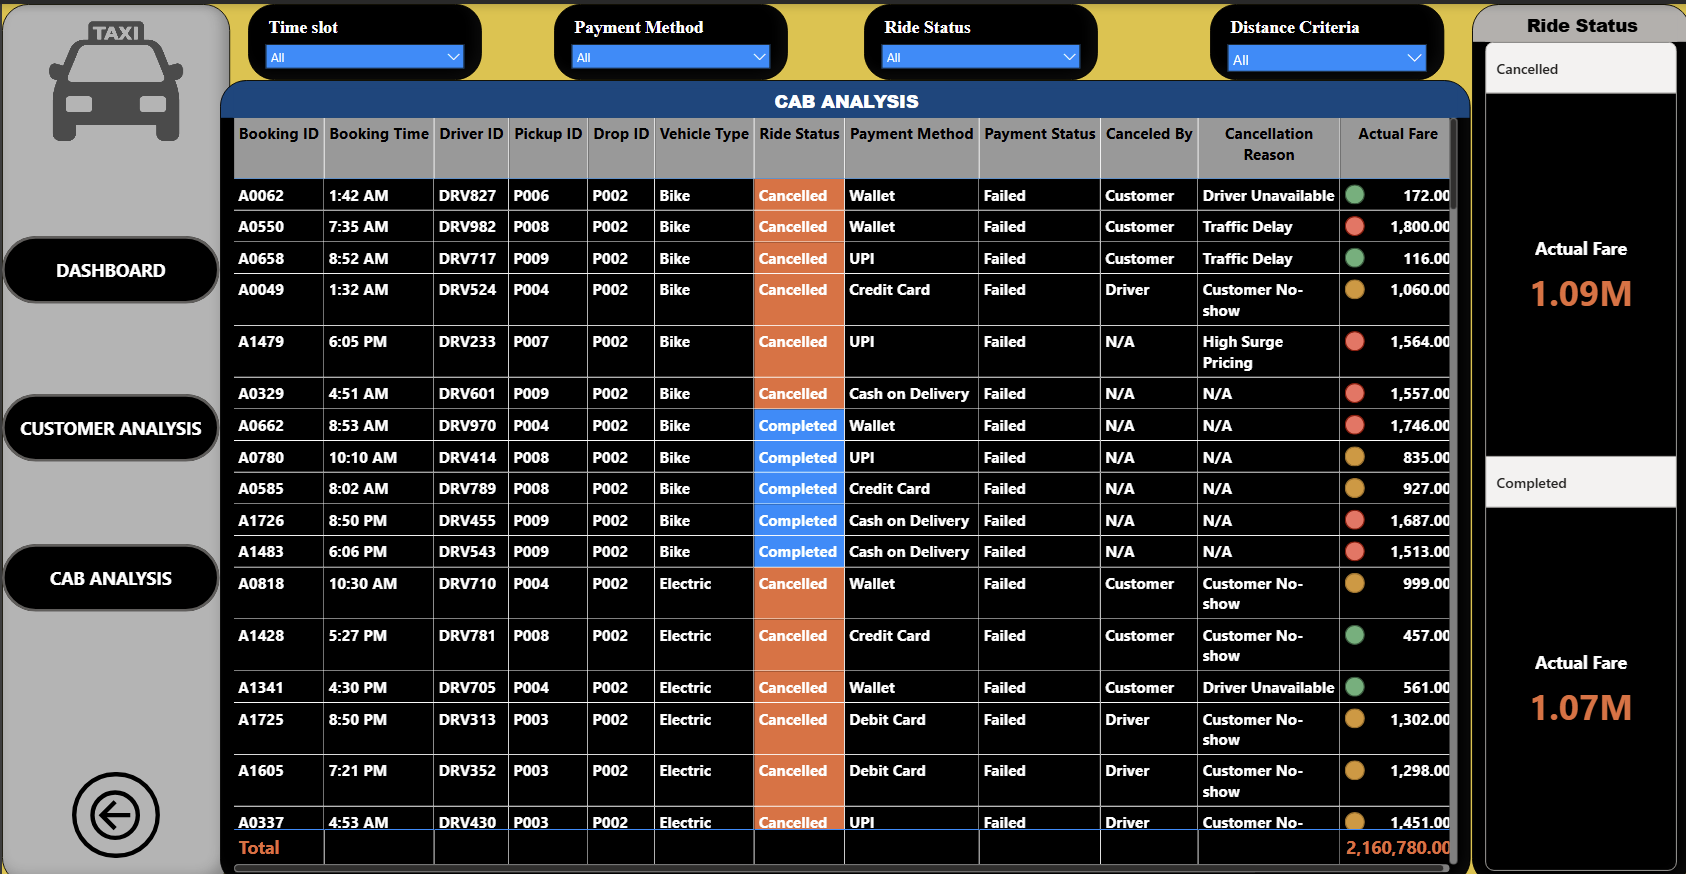

Layout of this report page (visuals, bound fields, positions):
{"tool":"powerbi","page":{"name":"CAB ANALYSIS","canvas":[1920,1000],"ordinal":3},"visuals":[{"type":"textbox","box":[0,0,259.3,1000.9],"z":0},{"type":"image","box":[0,11.4,259.3,152.4],"z":1000},{"type":"actionButton","box":[0,264.3,247.5,76.9],"z":2000},{"type":"actionButton","box":[0,444.6,247.5,76.9],"z":3000},{"type":"actionButton","box":[0,615.2,247.5,76.9],"z":4000},{"type":"tableEx","title":"CAB ANALYSIS","fields":{"Values":["FACT TABLE.Booking ID","FACT TABLE.Booking Time","FACT TABLE.Driver ID","FACT TABLE.Pickup ID","FACT TABLE.Drop ID","VEHICLE DIMENSION.Vehicle Type","RIDE STATUS DIMENSION.Ride Status","PAYMENT DIMENSION.Payment Method","PAYMENT_STATUS DIMENSION.Payment Status","CANCELLATION BY DIMENSION.Canceled By","CANCELLATION DIMENSION.Cancellation Reason","Sum(FACT TABLE.Actual Fare)"]},"box":[248.7,86.1,1422.7,915.8],"z":5000},{"type":"slicer","fields":{"Values":["FACT TABLE.Time slot"]},"box":[279.8,0,266.2,86.4],"z":6000},{"type":"slicer","fields":{"Values":["PAYMENT DIMENSION.Payment Method"]},"box":[627.9,0,266.2,86.4],"z":7000},{"type":"slicer","fields":{"Values":["RIDE STATUS DIMENSION.Ride Status"]},"box":[980.5,0,266.2,86.4],"z":8000},{"type":"cardVisual","title":"Ride Status","fields":{"Data":["Sum(FACT TABLE.Actual Fare)"],"Rows":["RIDE STATUS DIMENSION.Ride Status"]},"box":[1671.3,0,248.7,1001.8],"z":9000},{"type":"actionButton","box":[79.6,873.6,100.1,97.8],"z":10000},{"type":"slicer","fields":{"Values":["FACT TABLE.Distance Criteria"]},"box":[1374.5,0,266.7,86.5],"z":11000}]}

Visuals, with their boxes in screenshot pixels (x1, y1, x2, y2), scaled from the page's 1920x1000 canvas onto the 1686x874 screenshot:
textbox: BBox(0, 0, 228, 873)
image: BBox(0, 10, 228, 143)
actionButton: BBox(0, 231, 217, 298)
actionButton: BBox(0, 389, 217, 456)
actionButton: BBox(0, 538, 217, 605)
"CAB ANALYSIS" tableEx: BBox(218, 75, 1468, 873)
slicer - FACT TABLE.Time slot: BBox(246, 0, 479, 76)
slicer - PAYMENT DIMENSION.Payment Method: BBox(551, 0, 785, 76)
slicer - RIDE STATUS DIMENSION.Ride Status: BBox(861, 0, 1095, 76)
"Ride Status" cardVisual: BBox(1468, 0, 1685, 873)
actionButton: BBox(70, 764, 158, 849)
slicer - FACT TABLE.Distance Criteria: BBox(1207, 0, 1441, 76)
